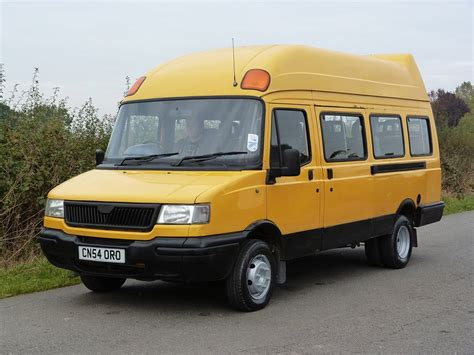bus: (45, 50, 445, 301)
